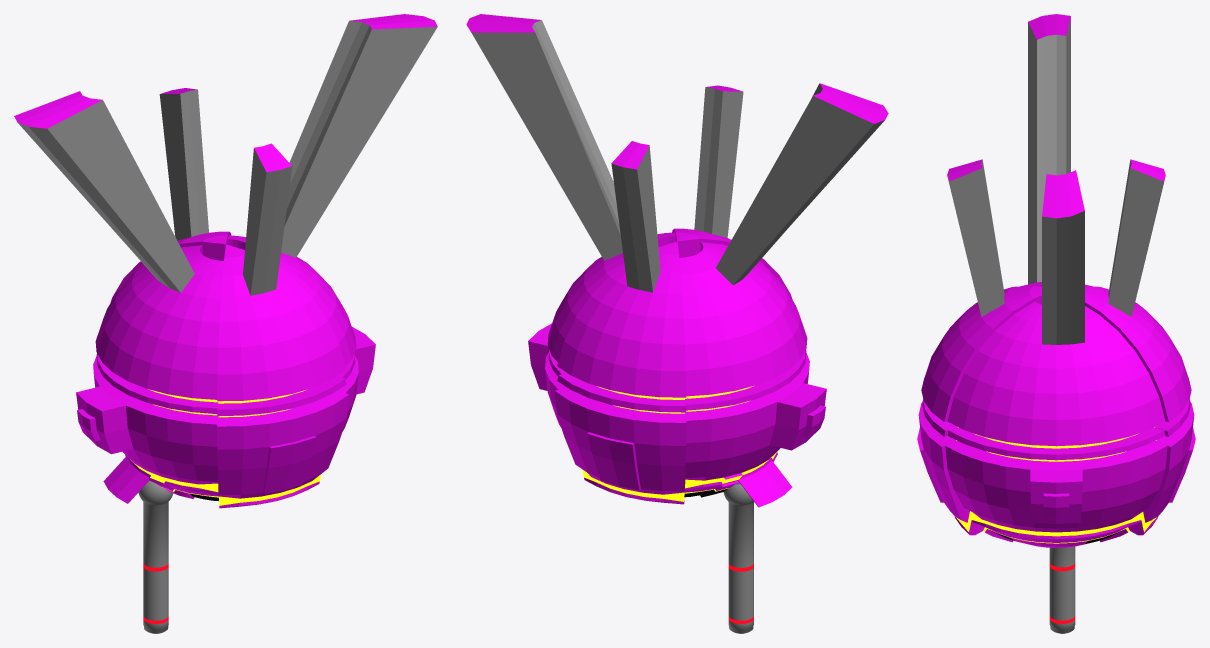
Rendered from DrohneImport 1.fbx.
3 renders of one model, left to right at view 1: azimuth 30°, elevation 25°; view 2: azimuth 150°, elevation 25°; view 3: azimuth 270°, elevation 25°, orthographic.
Parts seen in each view (by area): view 1: MainDrohne, Targting; view 2: MainDrohne, Targting; view 3: MainDrohne, Targting.
Part boxes in pixels (x1=…): MainDrohne: x1=14, y1=14, x2=437, y2=508; Targting: x1=138, y1=480, x2=173, y2=633; MainDrohne: x1=466, y1=14, x2=888, y2=507; Targting: x1=723, y1=484, x2=753, y2=633; MainDrohne: x1=917, y1=14, x2=1195, y2=547; Targting: x1=1049, y1=546, x2=1075, y2=633.
Size of the model in its own units: 362 by 462 by 208.
